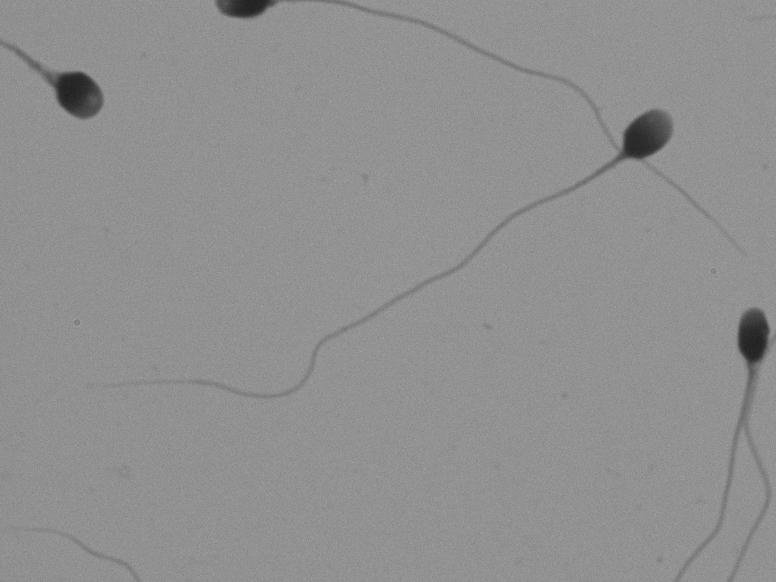Abnormal: (664, 285, 772, 561), (28, 27, 120, 182)
Normal: (108, 79, 703, 487)
